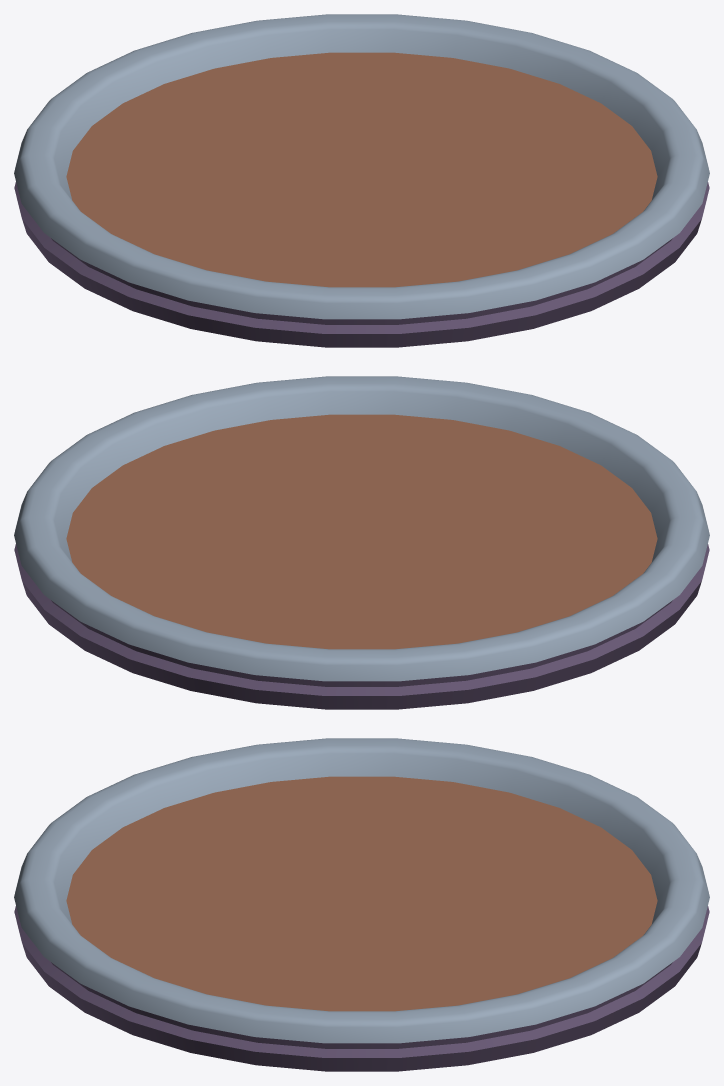
Rendered from FountainBase.fbx.
3 views of the same model, one above another, from view 1: azimuth 30°, elevation 25°; view 2: azimuth 150°, elevation 25°; view 3: azimuth 270°, elevation 25° (orthographic).
Visible parts, largest first — view 1: FountainBase_LOD0; view 2: FountainBase_LOD0; view 3: FountainBase_LOD0.
Boxes of the visible parts, x1,y1,x2,y2 form: FountainBase_LOD0: (14,14,709,347); FountainBase_LOD0: (14,376,709,709); FountainBase_LOD0: (14,738,709,1071).
Size of what is drawn, in the model's own units: 504 by 38.75 by 507.
